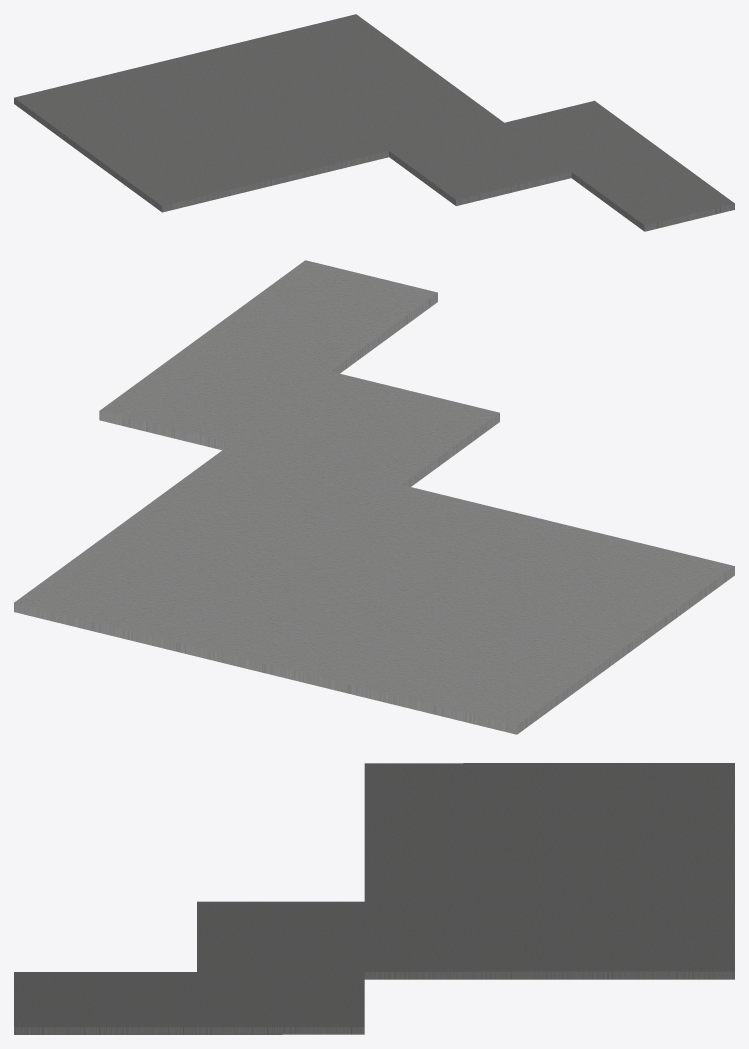
File: Ceiling_4b180894.obj
The picture shows the model from 3 angles, top to bottom: view 1: azimuth 30°, elevation 25°; view 2: azimuth 150°, elevation 25°; view 3: azimuth 270°, elevation 25°; orthographic projection. The views are drawn at different scales.
Parts seen in each view (by area): view 1: Ceiling_4b180894; view 2: Ceiling_4b180894; view 3: Ceiling_4b180894.
Part boxes in pixels (x1,y1,x2,y2): Ceiling_4b180894: [14, 14, 734, 231]; Ceiling_4b180894: [14, 260, 734, 734]; Ceiling_4b180894: [14, 763, 734, 1034].
Bounding box in the file's own units: 6.66 × 0.0957 × 7.7.
